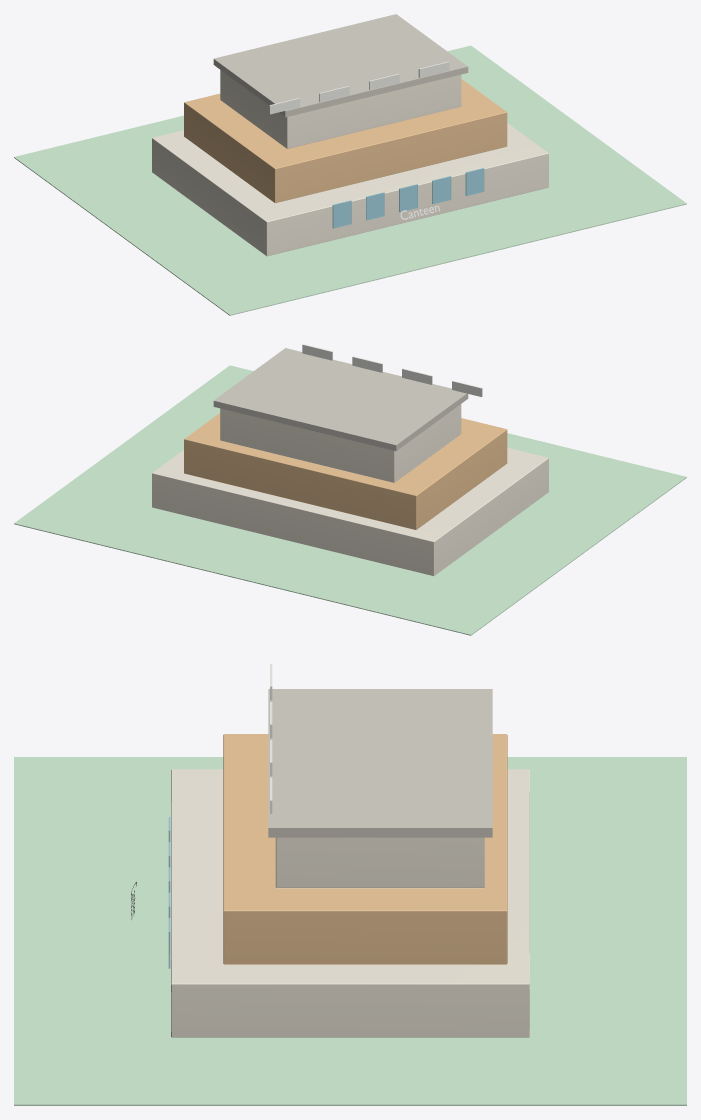
The model's file is canteen.glb.
The picture shows the model from 3 angles, top to bottom: view 1: azimuth 30°, elevation 25°; view 2: azimuth 150°, elevation 25°; view 3: azimuth 270°, elevation 25°; orthographic projection. The views are drawn at different scales.
Visible parts, largest first — view 1: canteen.001_base_tile, canteen_level_1, canteen_level_2, canteen_roof_terrace, canteen_level_3, canteen_front_glass_-8, canteen_front_glass_4, canteen_front_glass_8, canteen_front_glass_-4, canteen_front_glass_0; view 2: canteen.001_base_tile, canteen_level_1, canteen_level_2, canteen_roof_terrace, canteen_level_3; view 3: canteen.001_base_tile, canteen_level_1, canteen_roof_terrace, canteen_level_2, canteen_level_3.
Part boxes in pixels (x1,y1,x2,y2): canteen.001_base_tile: (14, 45, 686, 315); canteen_level_1: (152, 123, 548, 256); canteen_level_2: (184, 79, 507, 203); canteen_roof_terrace: (213, 14, 468, 117); canteen_level_3: (220, 70, 461, 148); canteen_front_glass_-8: (332, 200, 351, 228); canteen_front_glass_4: (432, 176, 451, 204); canteen_front_glass_8: (465, 168, 484, 196); canteen_front_glass_-4: (366, 192, 384, 220); canteen_front_glass_0: (399, 184, 417, 212); canteen.001_base_tile: (14, 365, 686, 635); canteen_level_1: (152, 447, 548, 576); canteen_level_2: (184, 413, 507, 529); canteen_roof_terrace: (213, 348, 468, 451); canteen_level_3: (220, 404, 461, 482); canteen.001_base_tile: (14, 757, 686, 1105); canteen_level_1: (171, 769, 529, 1037); canteen_roof_terrace: (268, 689, 492, 837); canteen_level_2: (223, 734, 507, 964); canteen_level_3: (275, 837, 484, 888).
Bounding box in the file's own units: 55 × 13.81 × 45.
